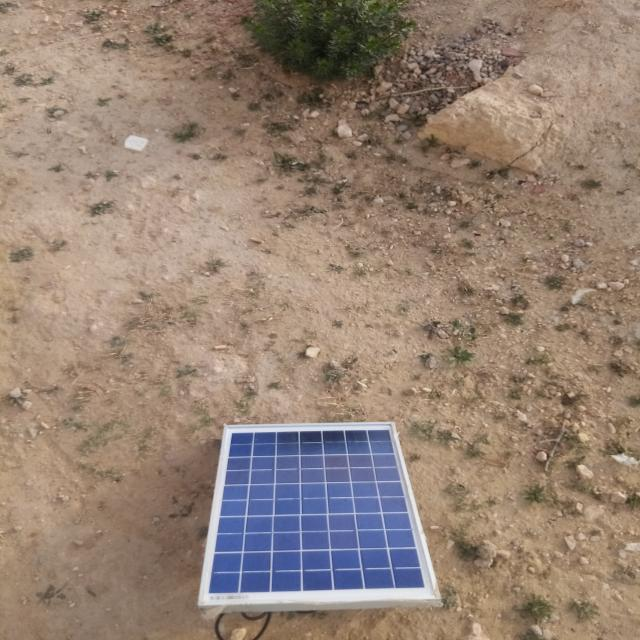no faulty: (198, 421, 442, 606)
